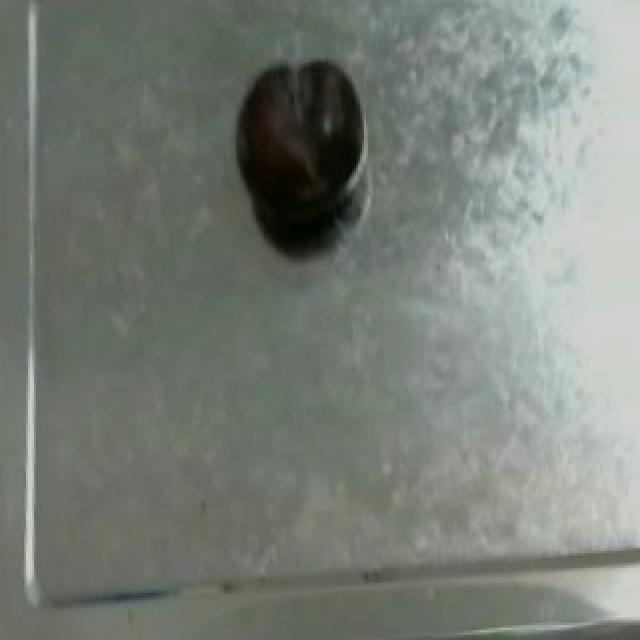Fruit: (228, 47, 374, 221)
